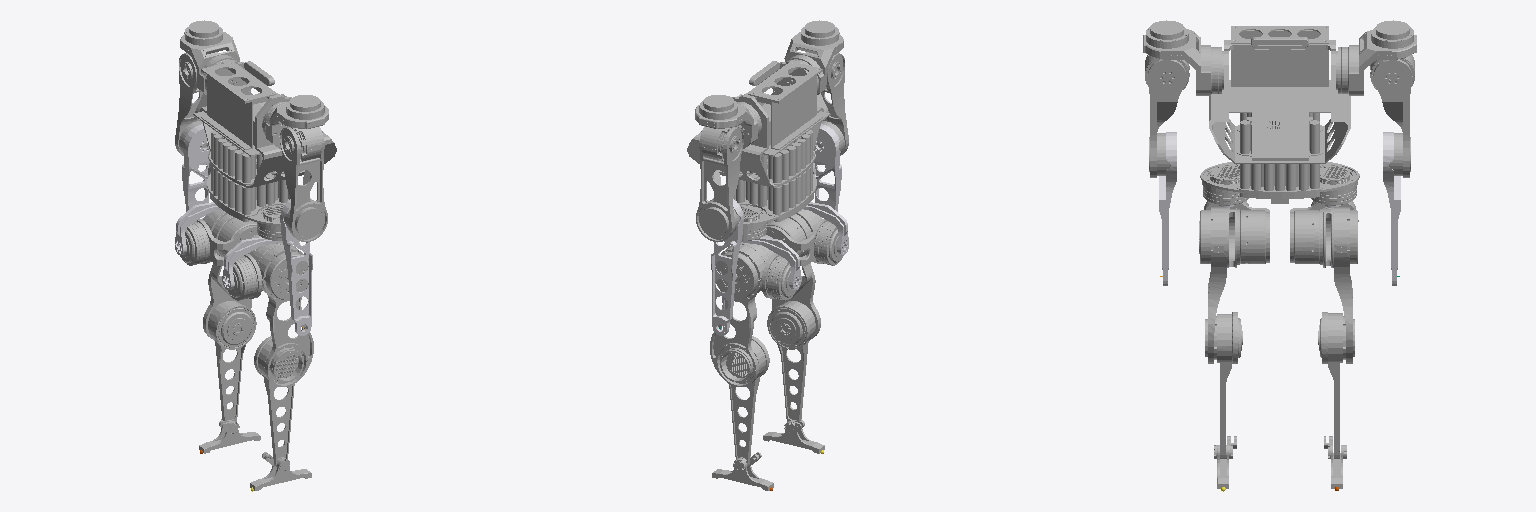
--- What the picture shows (computed from the rendered views, not written in the file) ---
The picture shows the robot from 3 angles, left to right: view 1: azimuth 30°, elevation 25°; view 2: azimuth 150°, elevation 25°; view 3: azimuth 270°, elevation 25°; orthographic projection.
Model biped_v2 with 25 links and 24 joints (18 revolute, 6 fixed), rooted at torso, posed all joints at 0.
Visible links, largest first — view 1: torso, r_uleg, r_uarm, l_lleg, r_lleg, l_uleg_x, l_uarm_y, r_uarm_y, r_larm, l_uarm, l_larm, l_uleg (+6 smaller); view 2: torso, l_uarm, l_uleg, r_lleg, l_lleg, r_uleg_x, r_uarm_y, l_uarm_y, l_larm, r_uarm, r_larm, r_uleg (+6 smaller); view 3: torso, r_uleg, r_uarm_y, l_uarm_y, l_uleg, l_uarm, r_uarm, r_lleg, l_lleg, l_uleg_x, r_uleg_x, l_larm (+3 smaller).
Boxes of the visible links, x1,y1,x2,y2 form: torso: [193, 60, 336, 240]; r_uleg: [254, 242, 313, 386]; r_uarm: [280, 126, 327, 241]; l_lleg: [208, 301, 256, 421]; r_lleg: [254, 336, 303, 467]; l_uleg_x: [180, 218, 257, 265]; l_uarm_y: [180, 20, 239, 94]; r_uarm_y: [262, 95, 328, 148]; r_larm: [280, 198, 313, 335]; l_uarm: [175, 52, 218, 155]; l_larm: [182, 124, 210, 219]; l_uleg: [203, 209, 251, 340]; torso: [687, 60, 830, 240]; l_uarm: [696, 126, 743, 241]; l_uleg: [710, 242, 768, 386]; r_lleg: [767, 301, 815, 421]; l_lleg: [720, 336, 769, 467]; r_uleg_x: [766, 218, 843, 265]; r_uarm_y: [784, 20, 843, 94]; l_uarm_y: [695, 95, 761, 148]; l_larm: [710, 198, 743, 335]; r_uarm: [805, 52, 848, 155]; r_larm: [813, 124, 841, 211]; r_uleg: [772, 209, 821, 340]; torso: [1200, 26, 1359, 205]; r_uleg: [1199, 207, 1239, 363]; r_uarm_y: [1143, 20, 1223, 95]; l_uarm_y: [1336, 20, 1416, 95]; l_uleg: [1320, 207, 1357, 363]; l_uarm: [1373, 59, 1411, 177]; r_uarm: [1148, 59, 1186, 177]; r_lleg: [1205, 312, 1242, 458]; l_lleg: [1318, 312, 1354, 458]; l_uleg_x: [1290, 201, 1358, 263]; r_uleg_x: [1204, 201, 1269, 263]; l_larm: [1383, 132, 1400, 285].
Size in the robot's own frame: 0.313 by 0.568 by 1.02 metres.
Meshes: 19 distinct files referenced, 19 mesh visuals loaded (19 OBJ).

The robot description file, URDF, robot "biped_v2":
<?xml version="1.0" encoding="utf-8"?>
<!-- This URDF was automatically created by SolidWorks to URDF Exporter! Originally created by Stephen Brawner ([email redacted]) 
     Commit Version: 1.6.0-4-g7f85cfe  Build Version: 1.6.7995.38578
     For more information, please see http://wiki.ros.org/sw_urdf_exporter -->
<robot
  name="biped_v2">
  <link
    name="torso">
    <inertial>
      <origin
        xyz="0.0089994 4.841E-05 0.0711"
        rpy="0 0 0" />
      <mass
        value="17.998" />
      <inertia
        ixx="0.04753"
        ixy="8.2124E-07"
        ixz="0.0012659"
        iyy="0.024162"
        iyz="4.7311E-07"
        izz="0.043368" />
    </inertial>
    <visual>
      <origin
        xyz="0 0 0"
        rpy="0 0 0" />
      <geometry>
        <mesh
          filename="../meshes/torso.obj" />
      </geometry>
      <material
        name="">
        <color
          rgba="0.75294 0.75294 0.75294 1" />
      </material>
    </visual>
  </link>
  <link
    name="l_uleg_z">
    <inertial>
      <origin
        xyz="-0.086894 1.1718E-10 -0.019971"
        rpy="0 0 0" />
      <mass
        value="0.23915" />
      <inertia
        ixx="0.00019621"
        ixy="2.8207E-08"
        ixz="-0.00020599"
        iyy="0.000693"
        iyz="2.8208E-08"
        izz="0.00052444" />
    </inertial>
    <visual>
      <origin
        xyz="0 0 0"
        rpy="0 0 0" />
      <geometry>
        <mesh
          filename="../meshes/l_uleg_z.obj" />
      </geometry>
      <material
        name="">
        <color
          rgba="0.86667 0.86667 0.8902 1" />
      </material>
    </visual>
  </link>
  <joint
    name="l_hip_z"
    type="revolute">
    <origin
      xyz="0 0.11 -0.0965"
      rpy="0 0 0" />
    <parent
      link="torso" />
    <child
      link="l_uleg_z" />
    <axis
      xyz="0 0 1" />
    <limit
      lower="-1.57"
      upper="1.57"
      effort="48"
      velocity="25" />
  </joint>
  <transmission type="SimpleTransmission">
    <joint name="l_hip_z"/>
    <actuator name="l_hip_z_motor"/>
  </transmission>
  <link
    name="l_uleg_x">
    <inertial>
      <origin
        xyz="0.091572 -0.03382 -4.1689E-05"
        rpy="0 0 0" />
      <mass
        value="2.4984" />
      <inertia
        ixx="0.002874"
        ixy="0.00028125"
        ixz="7.8653E-07"
        iyy="0.0035088"
        iyz="1.2225E-07"
        izz="0.0028211" />
    </inertial>
    <visual>
      <origin
        xyz="0 0 0"
        rpy="0 0 0" />
      <geometry>
        <mesh
          filename="../meshes/l_uleg_x.obj" />
      </geometry>
      <material
        name="">
        <color
          rgba="0.75294 0.75294 0.75294 1" />
      </material>
    </visual>
  </link>
  <joint
    name="l_hip_x"
    type="revolute">
    <origin
      xyz="-0.1335 0 -0.08"
      rpy="0 0 0" />
    <parent
      link="l_uleg_z" />
    <child
      link="l_uleg_x" />
    <axis
      xyz="1 0 0" />
    <limit
      lower="-0.78"
      upper="1.57"
      effort="48"
      velocity="25" />
  </joint>
  <transmission type="SimpleTransmission">
    <joint name="l_hip_x"/>
    <actuator name="l_hip_x_motor"/>
  </transmission>
  <link
    name="l_uleg">
    <inertial>
      <origin
        xyz="0.00102 0.018509 -0.021513"
        rpy="0 0 0" />
      <mass
        value="2.2508" />
      <inertia
        ixx="0.007381"
        ixy="-3.1108E-05"
        ixz="0.00037536"
        iyy="0.0095158"
        iyz="0.00052692"
        izz="0.0025951" />
    </inertial>
    <visual>
      <origin
        xyz="0 0 0"
        rpy="0 0 0" />
      <geometry>
        <mesh
          filename="../meshes/l_uleg.obj" />
      </geometry>
      <material
        name="">
        <color
          rgba="0.75294 0.75294 0.75294 1" />
      </material>
    </visual>
  </link>
  <joint
    name="l_hip_y"
    type="revolute">
    <origin
      xyz="0.1355 -0.0015484 0"
      rpy="0 0 0" />
    <parent
      link="l_uleg_x" />
    <child
      link="l_uleg" />
    <axis
      xyz="0 1 0" />
    <limit
      lower="-2.35"
      upper="0.78"
      effort="74"
      velocity="47" />
  </joint>
  <transmission type="SimpleTransmission">
    <joint name="l_hip_y"/>
    <actuator name="l_hip_y_motor"/>
  </transmission>
  <link
    name="l_lleg">
    <inertial>
      <origin
        xyz="-4.8585E-05 -0.03165 -0.018299"
        rpy="0 0 0" />
      <mass
        value="1.3508" />
      <inertia
        ixx="0.0040885"
        ixy="-1.8264E-07"
        ixz="3.2084E-07"
        iyy="0.0046773"
        iyz="-5.8388E-05"
        izz="0.0010996" />
    </inertial>
    <visual>
      <origin
        xyz="0 0 0"
        rpy="0 0 0" />
      <geometry>
        <mesh
          filename="../meshes/l_lleg.obj" />
      </geometry>
      <material
        name="">
        <color
          rgba="0.75294 0.75294 0.75294 1" />
      </material>
    </visual>
  </link>
  <joint
    name="l_knee"
    type="revolute">
    <origin
      xyz="0 0.03365 -0.23"
      rpy="0 0 0" />
    <parent
      link="l_uleg" />
    <child
      link="l_lleg" />
    <axis
      xyz="0 1 0" />
    <limit
      lower="-0.174"
      upper="2.61"
      effort="74"
      velocity="47" />
  </joint>
  <transmission type="SimpleTransmission">
    <joint name="l_knee"/>
    <actuator name="l_knee_motor"/>
  </transmission>
  <link
    name="l_foot">
    <inertial>
      <origin
        xyz="-0.0017103 -0.0012414 -0.028758"
        rpy="0 0 0" />
      <mass
        value="0.19291" />
      <inertia
        ixx="6.7544E-05"
        ixy="-5.0585E-06"
        ixz="1.3775E-05"
        iyy="0.00030983"
        iyz="9.9132E-06"
        izz="0.00027205" />
    </inertial>
    <visual>
      <origin
        xyz="0 0 0"
        rpy="0 0 0" />
      <geometry>
        <mesh
          filename="../meshes/l_foot.obj" />
      </geometry>
      <material
        name="">
        <color
          rgba="0.75294 0.75294 0.75294 1" />
      </material>
    </visual>
    <visual>
      <origin rpy="0 0 0" xyz="0.075 0 -0.05"/>
      <geometry>
        <sphere radius="0.005"/>
      </geometry>
    </visual>
    <collision>
      <origin rpy="0 0 0" xyz="0.075 0 -0.05"/>
      <geometry>
        <sphere radius="0.0"/>
      </geometry>
    </collision>
    <visual>
      <origin rpy="0 0 0" xyz="-0.075 0 -0.05"/>
      <geometry>
        <sphere radius="0.005"/>
      </geometry>
    </visual>
    <collision>
      <origin rpy="0 0 0" xyz="-0.075 0 -0.05"/>
      <geometry>
        <sphere radius="0.0"/>
      </geometry>
    </collision>
  </link>
  <joint
    name="l_ankle"
    type="revolute">
    <origin
      xyz="0 -0.0239 -0.26"
      rpy="0 0 0" />
    <parent
      link="l_lleg" />
    <child
      link="l_foot" />
    <axis
      xyz="0 1 0" />
    <limit
      lower="-1.39"
      upper="0.78"
      effort="48"
      velocity="25" />
  </joint>
  <transmission type="SimpleTransmission">
    <joint name="l_ankle"/>
    <actuator name="l_ankle_motor"/>
  </transmission>
  <link
    name="l_foot_x">
    <inertial>
      <origin
        xyz="0 0 -0.05"
        rpy="0 0 0" />
      <mass
        value="0.1" />
      <inertia
        ixx="1e-5"
        ixy="0"
        ixz="0"
        iyy="1e-5"
        iyz="0"
        izz="1e-5" />
    </inertial>
    <visual>
      <origin
        xyz="0 0 0"
        rpy="0 0 0" />
      <geometry>
        <box size="0.01 0.001 0.001"/>
      </geometry>
    </visual>
  </link>
  <frame link="l_foot_x" name="l_foot_sole" xyz="0 0 0"/>
  <frame link="l_foot_x" name="l_foot_toe" xyz="0.075 0 0"/>
  <frame link="l_foot_x" name="l_foot_heel" xyz="-0.075 0 0"/>
  <joint
    name="l_ankle_x"
    type="fixed">
    <origin
      xyz="0 0 -0.05"
      rpy="0 0 0" />
    <parent
      link="l_foot" />
    <child
      link="l_foot_x" />
    <axis
      xyz="1 0 0" />
    <limit
      lower="-1.57"
      upper="1.57"
      effort="48"
      velocity="25" />
  </joint>
  <!-- <transmission type="SimpleTransmission">
    <joint name="l_ankle_x"/>
    <actuator name="l_ankle_x_motor"/>
  </transmission> -->
  <link
    name="r_uleg_z">
    <inertial>
      <origin
        xyz="-0.086894 1.1718E-10 -0.019971"
        rpy="0 0 0" />
      <mass
        value="0.23915" />
      <inertia
        ixx="0.00019621"
        ixy="2.8207E-08"
        ixz="-0.00020599"
        iyy="0.000693"
        iyz="2.8208E-08"
        izz="0.00052444" />
    </inertial>
    <visual>
      <origin
        xyz="0 0 0"
        rpy="0 0 0" />
      <geometry>
        <mesh
          filename="../meshes/r_uleg_z.obj" />
      </geometry>
      <material
        name="">
        <color
          rgba="0.86667 0.86667 0.8902 1" />
      </material>
    </visual>
  </link>
  <joint
    name="r_hip_z"
    type="revolute">
    <origin
      xyz="0 -0.11 -0.0965"
      rpy="0 0 0" />
    <parent
      link="torso" />
    <child
      link="r_uleg_z" />
    <axis
      xyz="0 0 1" />
    <limit
      lower="-1.57"
      upper="1.57"
      effort="48"
      velocity="25" />
  </joint>
  <transmission type="SimpleTransmission">
    <joint name="r_hip_z"/>
    <actuator name="r_hip_z_motor"/>
  </transmission>
  <link
    name="r_uleg_x">
    <inertial>
      <origin
        xyz="0.091614 0.033814 -6.3136E-05"
        rpy="0 0 0" />
      <mass
        value="2.4984" />
      <inertia
        ixx="0.0028694"
        ixy="-0.00028224"
        ixz="-2.7675E-06"
        iyy="0.0035087"
        iyz="6.8462E-07"
        izz="0.0028259" />
    </inertial>
    <visual>
      <origin
        xyz="0 0 0"
        rpy="0 0 0" />
      <geometry>
        <mesh
          filename="../meshes/r_uleg_x.obj" />
      </geometry>
      <material
        name="">
        <color
          rgba="0.75294 0.75294 0.75294 1" />
      </material>
    </visual>
  </link>
  <joint
    name="r_hip_x"
    type="revolute">
    <origin
      xyz="-0.1335 0 -0.08"
      rpy="0 0 0" />
    <parent
      link="r_uleg_z" />
    <child
      link="r_uleg_x" />
    <axis
      xyz="1 0 0" />
    <limit
      lower="-1.57"
      upper="0.78"
      effort="48"
      velocity="25" />
  </joint>
  <transmission type="SimpleTransmission">
    <joint name="r_hip_x"/>
    <actuator name="r_hip_x_motor"/>
  </transmission>
  <link
    name="r_uleg">
    <inertial>
      <origin
        xyz="0.00097425 -0.021838 -0.021516"
        rpy="0 0 0" />
      <mass
        value="2.2508" />
      <inertia
        ixx="0.0073847"
        ixy="3.0173E-05"
        ixz="0.0003777"
        iyy="0.0095158"
        iyz="-0.00052695"
        izz="0.0025913" />
    </inertial>
    <visual>
      <origin
        xyz="0 0 0"
        rpy="0 0 0" />
      <geometry>
        <mesh
          filename="../meshes/r_uleg.obj" />
      </geometry>
      <material
        name="">
        <color
          rgba="0.75294 0.75294 0.75294 1" />
      </material>
    </visual>
  </link>
  <joint
    name="r_hip_y"
    type="revolute">
    <origin
      xyz="0.1355 0.0025484 0"
      rpy="0 0 0" />
    <parent
      link="r_uleg_x" />
    <child
      link="r_uleg" />
    <axis
      xyz="0 1 0" />
    <limit
      lower="-2.35"
      upper="0.78"
      effort="74"
      velocity="47" />
  </joint>
  <transmission type="SimpleTransmission">
    <joint name="r_hip_y"/>
    <actuator name="r_hip_y_motor"/>
  </transmission>
  <link
    name="r_lleg">
    <inertial>
      <origin
        xyz="1.503E-05 0.03165 -0.018335"
        rpy="0 0 0" />
      <mass
        value="1.3508" />
      <inertia
        ixx="0.0040863"
        ixy="-5.3705E-08"
        ixz="-6.3356E-07"
        iyy="0.0046773"
        iyz="5.8528E-05"
        izz="0.0011018" />
    </inertial>
    <visual>
      <origin
        xyz="0 0 0"
        rpy="0 0 0" />
      <geometry>
        <mesh
          filename="../meshes/r_lleg.obj" />
      </geometry>
      <material
        name="">
        <color
          rgba="0.75294 0.75294 0.75294 1" />
      </material>
    </visual>
  </link>
  <joint
    name="r_knee"
    type="revolute">
    <origin
      xyz="0 -0.03365 -0.23"
      rpy="0 0 0" />
    <parent
      link="r_uleg" />
    <child
      link="r_lleg" />
    <axis
      xyz="0 1 0" />
    <limit
      lower="-0.174"
      upper="2.61"
      effort="74"
      velocity="47" />
  </joint>
  <transmission type="SimpleTransmission">
    <joint name="r_knee"/>
    <actuator name="r_knee_motor"/>
  </transmission>
  <link
    name="r_foot">
    <inertial>
      <origin
        xyz="-0.0017117 0.0012414 -0.028758"
        rpy="0 0 0" />
      <mass
        value="0.19291" />
      <inertia
        ixx="6.7548E-05"
        ixy="5.0585E-06"
        ixz="1.3775E-05"
        iyy="0.00030983"
        iyz="-9.9127E-06"
        izz="0.00027205" />
    </inertial>
    <visual>
      <origin
        xyz="0 0 0"
        rpy="0 0 0" />
      <geometry>
        <mesh
          filename="../meshes/r_foot.obj" />
      </geometry>
      <material
        name="">
        <color
          rgba="0.75294 0.75294 0.75294 1" />
      </material>
    </visual>
    <visual>
      <origin rpy="0 0 0" xyz="0.075 0 -0.05"/>
      <geometry>
        <sphere radius="0.005"/>
      </geometry>
    </visual>
    <collision>
      <origin rpy="0 0 0" xyz="0.075 0 -0.05"/>
      <geometry>
        <sphere radius="0.0"/>
      </geometry>
    </collision>
    <visual>
      <origin rpy="0 0 0" xyz="-0.075 0 -0.05"/>
      <geometry>
        <sphere radius="0.005"/>
      </geometry>
    </visual>
    <collision>
      <origin rpy="0 0 0" xyz="-0.075 0 -0.05"/>
      <geometry>
        <sphere radius="0.0"/>
      </geometry>
    </collision>
  </link>
  <joint
    name="r_ankle"
    type="revolute">
    <origin
      xyz="0 0.0239 -0.26"
      rpy="0 0 0" />
    <parent
      link="r_lleg" />
    <child
      link="r_foot" />
    <axis
      xyz="0 1 0" />
    <limit
      lower="-1.39"
      upper="0.78"
      effort="48"
      velocity="25" />
  </joint>
  <transmission type="SimpleTransmission">
    <joint name="r_ankle"/>
    <actuator name="r_ankle_motor"/>
  </transmission>
  <link
    name="r_foot_x">
    <inertial>
      <origin
        xyz="0 0 -0.05"
        rpy="0 0 0" />
      <mass
        value="0.1" />
      <inertia
        ixx="1e-5"
        ixy="0"
        ixz="0"
        iyy="1e-5"
        iyz="0"
        izz="1e-5" />
    </inertial>
    <visual>
      <origin
        xyz="0 0 0"
        rpy="0 0 0" />
      <geometry>
        <box size="0.01 0.001 0.001"/>
      </geometry>
    </visual>
  </link>
  <frame link="r_foot_x" name="r_foot_sole" xyz="0 0 0"/>
  <frame link="r_foot_x" name="r_foot_toe" xyz="0.075 0 0"/>
  <frame link="r_foot_x" name="r_foot_heel" xyz="-0.075 0 0"/>
  <joint
    name="r_ankle_x"
    type="fixed">
    <origin
      xyz="0 0 -0.05"
      rpy="0 0 0" />
    <parent
      link="r_foot" />
    <child
      link="r_foot_x" />
    <axis
      xyz="1 0 0" />
    <limit
      lower="-1.57"
      upper="1.57"
      effort="48"
      velocity="25" />
  </joint>
  <!-- <transmission type="SimpleTransmission">
    <joint name="r_ankle_x"/>
    <actuator name="r_ankle_x_motor"/>
  </transmission> -->
  <link
    name="l_uarm_y">
    <inertial>
      <origin
        xyz="0.00028574 0.070052 0.028442"
        rpy="0 0 0" />
      <mass
        value="1.9072" />
      <inertia
        ixx="0.0020789"
        ixy="-3.3624E-06"
        ixz="-8.463E-06"
        iyy="0.0025249"
        iyz="-0.00027283"
        izz="0.0024093" />
    </inertial>
    <visual>
      <origin
        xyz="0 0 0"
        rpy="0 0 0" />
      <geometry>
        <mesh
          filename="../meshes/l_uarm_y.obj" />
      </geometry>
      <material
        name="">
        <color
          rgba="0.75294 0.75294 0.75294 1" />
      </material>
    </visual>
  </link>
  <joint
    name="l_shoulder_y"
    type="revolute">
    <origin
      xyz="0 0.107 0.204"
      rpy="0 0 0" />
    <parent
      link="torso" />
    <child
      link="l_uarm_y" />
    <axis
      xyz="0 1 0" />
    <limit
      lower="-3.14"
      upper="1.57"
      effort="48"
      velocity="25" />
  </joint>
  <transmission type="SimpleTransmission">
    <joint name="l_shoulder_y"/>
    <actuator name="l_shoulder_y_motor"/>
  </transmission>
  <link
    name="l_uarm_z">
    <inertial>
      <origin
        xyz="-0.0036271 -1.1381E-08 -0.052725"
        rpy="0 0 0" />
      <mass
        value="0.68812" />
      <inertia
        ixx="0.00073442"
        ixy="-8.1348E-11"
        ixz="-1.8497E-05"
        iyy="0.00050155"
        iyz="6.5854E-09"
        izz="0.00048799" />
    </inertial>
    <visual>
      <origin
        xyz="0 0 0"
        rpy="0 0 0" />
      <geometry>
        <mesh
          filename="../meshes/l_uarm_z.obj" />
      </geometry>
      <material
        name="">
        <color
          rgba="0.75294 0.75294 0.75294 1" />
      </material>
    </visual>
  </link>
  <joint
    name="l_shoulder_z"
    type="revolute">
    <origin
      xyz="0 0.1265 0.05025"
      rpy="0 0 0" />
    <parent
      link="l_uarm_y" />
    <child
      link="l_uarm_z" />
    <axis
      xyz="0 0 1" />
    <limit
      lower="-1.57"
      upper="1.57"
      effort="24.8"
      velocity="42" />
  </joint>
  <transmission type="SimpleTransmission">
    <joint name="l_shoulder_z"/>
    <actuator name="l_shoulder_z_motor"/>
  </transmission>
  <link
    name="l_uarm">
    <inertial>
      <origin
        xyz="0.0090481 0.012219 -0.13528"
        rpy="0 0 0" />
      <mass
        value="0.96113" />
      <inertia
        ixx="0.0024629"
        ixy="-8.3685E-06"
        ixz="2.2601E-05"
        iyy="0.0028091"
        iyz="0.00028922"
        izz="0.00086343" />
    </inertial>
    <visual>
      <origin
        xyz="0 0 0"
        rpy="0 0 0" />
      <geometry>
        <mesh
          filename="../meshes/l_uarm.obj" />
      </geometry>
      <material
        name="">
        <color
          rgba="0.75294 0.75294 0.75294 1" />
      </material>
    </visual>
  </link>
  <joint
    name="l_shoulder_x"
    type="revolute">
    <origin
      xyz="-0.0194 0 -0.05425"
      rpy="0 0 0" />
    <parent
      link="l_uarm_z" />
    <child
      link="l_uarm" />
    <axis
      xyz="1 0 0" />
    <limit
      lower="-0.174"
      upper="1.57"
      effort="24.8"
      velocity="42" />
  </joint>
  <transmission type="SimpleTransmission">
    <joint name="l_shoulder_x"/>
    <actuator name="l_shoulder_x_motor"/>
  </transmission>
  <link
    name="l_larm">
    <inertial>
      <origin
        xyz="-0.0047378 -0.017977 -0.071609"
        rpy="0 0 0" />
      <mass
        value="0.35371" />
      <inertia
        ixx="0.0032935"
        ixy="9.9505E-06"
        ixz="-2.6429E-05"
        iyy="0.0034588"
        iyz="0.00023816"
        izz="0.00023055" />
    </inertial>
    <visual>
      <origin
        xyz="0 0 0"
        rpy="0 0 0" />
      <geometry>
        <mesh
          filename="../meshes/l_larm.obj" />
      </geometry>
      <material
        name="">
        <color
          rgba="0.86667 0.86667 0.8902 1" />
      </material>
    </visual>
  </link>
  <joint
    name="l_elbow"
    type="revolute">
    <origin
      xyz="0.01115 0.010475 -0.192"
      rpy="0 0 0" />
    <parent
      link="l_uarm" />
    <child
      link="l_larm" />
    <axis
      xyz="0 1 0" />
    <limit
      lower="-2.44"
      upper="0.174"
      effort="24.8"
      velocity="42" />
  </joint>
  <transmission type="SimpleTransmission">
    <joint name="l_elbow"/>
    <actuator name="l_elbow_motor"/>
  </transmission>
  <link
    name="l_hand_x">
    <inertial>
      <origin
        xyz="0 0 -0.279"
        rpy="0 0 0" />
      <mass
        value="0.1" />
      <inertia
        ixx="1e-5"
        ixy="0"
        ixz="0"
        iyy="1e-5"
        iyz="0"
        izz="1e-5" />
    </inertial>
    <visual>
      <origin
        xyz="0 0 0"
        rpy="0 0 0" />
      <geometry>
        <box size="0.01 0.001 0.001"/>
      </geometry>
    </visual>
  </link>
  <joint
    name="l_wrist_x"
    type="fixed">
    <origin
      xyz="0 0 -0.279"
      rpy="0 0 0" />
    <parent
      link="l_larm" />
    <child
      link="l_hand_x" />
    <axis
      xyz="1 0 0" />
    <limit
      lower="-1.57"
      upper="1.57"
      effort="24.8"
      velocity="42" />
  </joint>
  <!-- <transmission type="SimpleTransmission">
    <joint name="l_wrist_x"/>
    <actuator name="l_wrist_x_motor"/>
  </transmission> -->
  <link
    name="l_hand_y">
    <inertial>
      <origin
        xyz="0 0 0"
        rpy="0 0 0" />
      <mass
        value="0.1" />
      <inertia
        ixx="1e-5"
        ixy="0"
        ixz="0"
        iyy="1e-5"
        iyz="0"
        izz="1e-5" />
    </inertial>
    <visual>
      <origin
        xyz="0 0 0"
        rpy="0 0 0" />
      <geometry>
        <box size="0.001 0.01 0.001"/>
      </geometry>
    </visual>
  </link>
  <joint
    name="l_wrist_y"
    type="fixed">
    <origin
      xyz="0 0 0"
      rpy="0 0 0" />
    <parent
      link="l_hand_x" />
    <child
      link="l_hand_y" />
    <axis
      xyz="0 1 0" />
    <limit
      lower="-1.57"
      upper="1.57"
      effort="24.8"
      velocity="42" />
  </joint>
  <!-- <transmission type="SimpleTransmission">
    <joint name="l_wrist_y"/>
    <actuator name="l_wrist_y_motor"/>
  </transmission> -->
  <frame link="l_hand_y" name="l_hand" xyz="0 0 0"/>
  <link
    name="r_uarm_y">
    <inertial>
      <origin
        xyz="-0.00028574 -0.070052 0.028442"
        rpy="0 0 0" />
      <mass
        value="1.9072" />
      <inertia
        ixx="0.0020789"
        ixy="-3.3624E-06"
        ixz="8.463E-06"
        iyy="0.0025249"
        iyz="0.00027283"
        izz="0.0024093" />
    </inertial>
    <visual>
      <origin
        xyz="0 0 0"
        rpy="0 0 0" />
      <geometry>
        <mesh
          filename="../meshes/r_uarm_y.obj" />
      </geometry>
      <material
        name="">
        <color
          rgba="0.75294 0.75294 0.75294 1" />
      </material>
    </visual>
  </link>
  <joint
    name="r_shoulder_y"
    type="revolute">
    <origin
      xyz="0 -0.107 0.204"
      rpy="0 0 0" />
    <parent
      link="torso" />
    <child
      link="r_uarm_y" />
    <axis
      xyz="0 1 0" />
    <limit
      lower="-3.14"
      upper="1.57"
      effort="48"
      velocity="25" />
  </joint>
  <transmission type="SimpleTransmission">
    <joint name="r_shoulder_y"/>
    <actuator name="r_shoulder_y_motor"/>
  </transmission>
  <link
    name="r_uarm_z">
    <inertial>
      <origin
        xyz="-0.0036271 -1.1381E-08 -0.052725"
        rpy="0 0 0" />
      <mass
        value="0.68812" />
      <inertia
        ixx="0.00073442"
        ixy="-8.1348E-11"
        ixz="-1.8497E-05"
        iyy="0.00050155"
        iyz="6.5854E-09"
        izz="0.00048799" />
    </inertial>
    <visual>
      <origin
        xyz="0 0 0"
        rpy="0 0 0" />
      <geometry>
        <mesh
          filename="../meshes/r_uarm_z.obj" />
      </geometry>
      <material
        name="">
        <color
          rgba="0.75294 0.75294 0.75294 1" />
      </material>
    </visual>
  </link>
  <joint
    name="r_shoulder_z"
    type="revolute">
    <origin
      xyz="0 -0.1265 0.05025"
      rpy="0 0 0" />
    <parent
      link="r_uarm_y" />
    <child
      link="r_uarm_z" />
    <axis
      xyz="0 0 1" />
    <limit
      lower="-1.57"
      upper="1.57"
      effort="24.8"
      velocity="42" />
  </joint>
  <transmission type="SimpleTransmission">
    <joint name="r_shoulder_z"/>
    <actuator name="r_shoulder_z_motor"/>
  </transmission>
  <link
    name="r_uarm">
    <inertial>
      <origin
        xyz="0.0090297 -0.012326 -0.13605"
        rpy="0 0 0" />
      <mass
        value="0.95281" />
      <inertia
        ixx="0.0024554"
        ixy="8.7516E-06"
        ixz="2.331E-05"
        iyy="0.0028034"
        iyz="-0.00028669"
        izz="0.00085957" />
    </inertial>
    <visual>
      <origin
        xyz="0 0 0"
        rpy="0 0 0" />
      <geometry>
        <mesh
          filename="../meshes/r_uarm.obj" />
      </geometry>
      <material
        name="">
        <color
          rgba="0.75294 0.75294 0.75294 1" />
      </material>
    </visual>
  </link>
  <joint
    name="r_shoulder_x"
    type="revolute">
    <origin
      xyz="-0.0194 0 -0.05425"
      rpy="0 0 0" />
    <parent
      link="r_uarm_z" />
    <child
      link="r_uarm" />
    <axis
      xyz="1 0 0" />
    <limit
      lower="-1.57"
      upper="0.174"
      effort="24.8"
      velocity="42" />
  </joint>
  <transmission type="SimpleTransmission">
    <joint name="r_shoulder_x"/>
    <actuator name="r_shoulder_x_motor"/>
  </transmission>
  <link
    name="r_larm">
    <inertial>
      <origin
        xyz="-0.0047375 0.017977 -0.071609"
        rpy="0 0 0" />
      <mass
        value="0.35371" />
      <inertia
        ixx="0.0032935"
        ixy="-9.9509E-06"
        ixz="-2.643E-05"
        iyy="0.0034588"
        iyz="-0.00023816"
        izz="0.00023055" />
    </inertial>
    <visual>
      <origin
        xyz="0 0 0"
        rpy="0 0 0" />
      <geometry>
        <mesh
          filename="../meshes/r_larm.obj" />
      </geometry>
      <material
        name="">
        <color
          rgba="0.86667 0.86667 0.8902 1" />
      </material>
    </visual>
  </link>
  <joint
    name="r_elbow"
    type="revolute">
    <origin
      xyz="0.01115 -0.010475 -0.192"
      rpy="0 0 0" />
    <parent
      link="r_uarm" />
    <child
      link="r_larm" />
    <axis
      xyz="0 1 0" />
    <limit
      lower="-2.44"
      upper="0.174"
      effort="24.8"
      velocity="42" />
  </joint>
  <transmission type="SimpleTransmission">
    <joint name="r_elbow"/>
    <actuator name="r_elbow_motor"/>
  </transmission>
  <link
    name="r_hand_x">
    <inertial>
      <origin
        xyz="0 0 -0.279"
        rpy="0 0 0" />
      <mass
        value="0.1" />
      <inertia
        ixx="1e-5"
        ixy="0"
        ixz="0"
        iyy="1e-5"
        iyz="0"
        izz="1e-5" />
    </inertial>
    <visual>
      <origin
        xyz="0 0 0"
        rpy="0 0 0" />
      <geometry>
        <box size="0.01 0.001 0.001"/>
      </geometry>
    </visual>
  </link>
  <joint
    name="r_wrist_x"
    type="fixed">
    <origin
      xyz="0 0 -0.279"
      rpy="0 0 0" />
    <parent
      link="r_larm" />
    <child
      link="r_hand_x" />
    <axis
      xyz="1 0 0" />
    <limit
      lower="-1.57"
      upper="1.57"
      effort="24.8"
      velocity="42" />
  </joint>
  <!-- <transmission type="SimpleTransmission">
    <joint name="r_wrist_x"/>
    <actuator name="r_wrist_x_motor"/>
  </transmission> -->
  <link
    name="r_hand_y">
    <inertial>
      <origin
        xyz="0 0 0"
        rpy="0 0 0" />
      <mass
        value="0.1" />
      <inertia
        ixx="1e-5"
        ixy="0"
        ixz="0"
        iyy="1e-5"
        iyz="0"
        izz="1e-5" />
    </inertial>
    <visual>
      <origin
        xyz="0 0 0"
        rpy="0 0 0" />
      <geometry>
        <box size="0.001 0.01 0.001"/>
      </geometry>
    </visual>
  </link>
  <joint
    name="r_wrist_y"
    type="fixed">
    <origin
      xyz="0 0 0"
      rpy="0 0 0" />
    <parent
      link="r_hand_x" />
    <child
      link="r_hand_y" />
    <axis
      xyz="0 1 0" />
    <limit
      lower="-1.57"
      upper="1.57"
      effort="24.8"
      velocity="42" />
  </joint>
  <!-- <transmission type="SimpleTransmission">
    <joint name="r_wrist_y"/>
    <actuator name="r_wrist_y_motor"/>
  </transmission> -->
  <frame link="r_hand_y" name="r_hand" xyz="0 0 0"/>
</robot>
